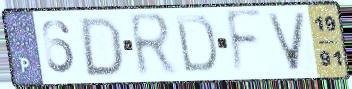6: (40, 18, 78, 77)
D: (172, 13, 219, 75), (79, 14, 124, 78)
F: (224, 7, 265, 79)
R: (126, 10, 180, 81)
V: (263, 11, 309, 73)
